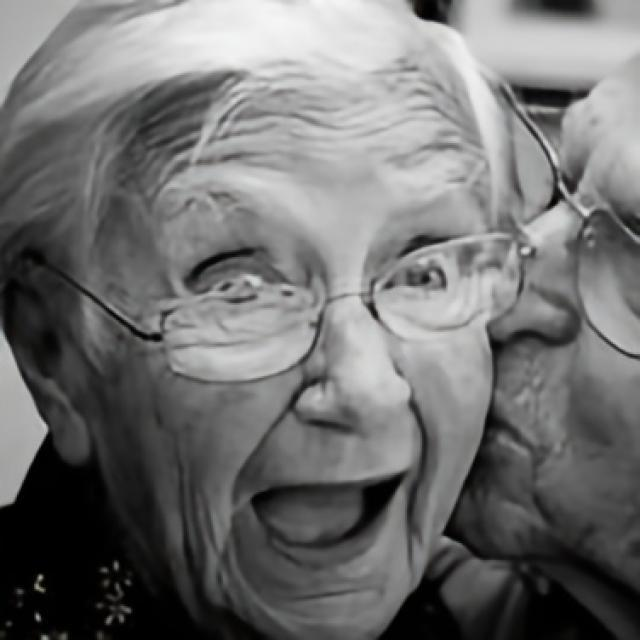fear: (92, 51, 493, 640)
